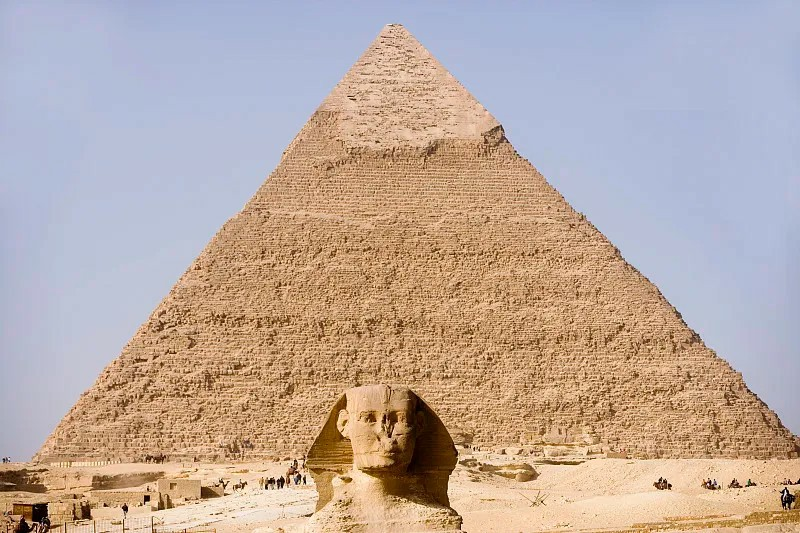Pyramid: (34, 25, 800, 458)
